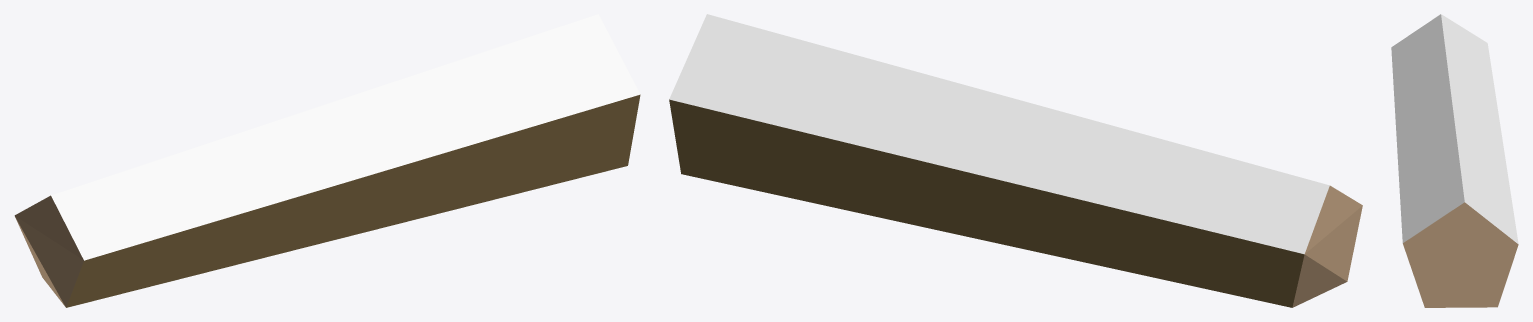
File: Oak_Log_Snow_02.fbx
3 views of the same model, side by side, from view 1: azimuth 30°, elevation 25°; view 2: azimuth 150°, elevation 25°; view 3: azimuth 270°, elevation 25° (orthographic). The views are drawn at different scales.
Parts seen in each view (by area): view 1: Oak_Log_Snow_02; view 2: Oak_Log_Snow_02; view 3: Oak_Log_Snow_02.
Part boxes in pixels (left/top/right/bottom): Oak_Log_Snow_02: left=14, top=14, right=640, bottom=307; Oak_Log_Snow_02: left=669, top=14, right=1362, bottom=307; Oak_Log_Snow_02: left=1391, top=14, right=1518, bottom=307.
Bounding box in the file's own units: 154 × 34.39 × 38.05.
